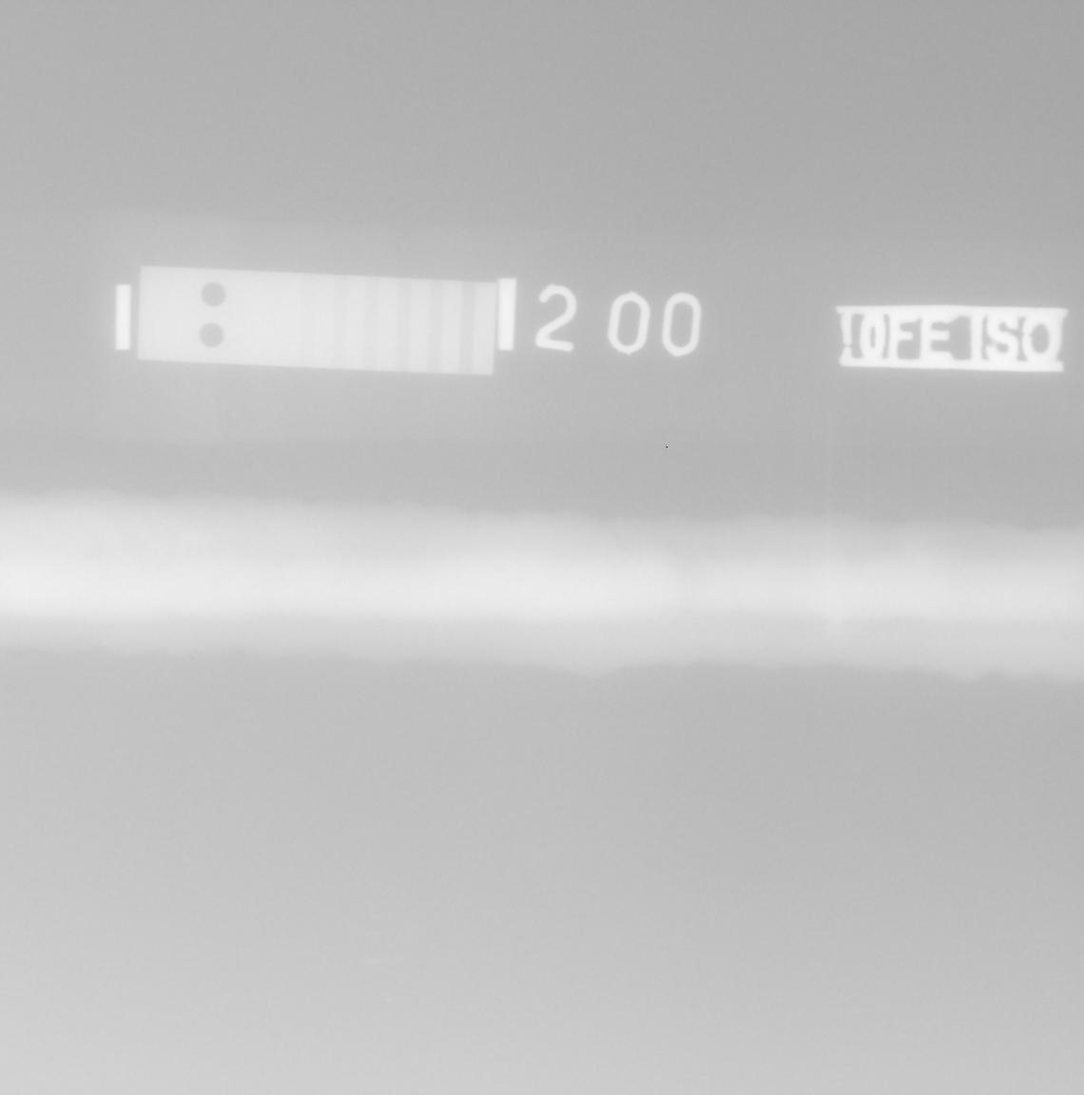Pore/Porosity: (496, 567, 502, 574), (504, 579, 510, 585)
Reference Standard 2: (137, 266, 497, 376)
